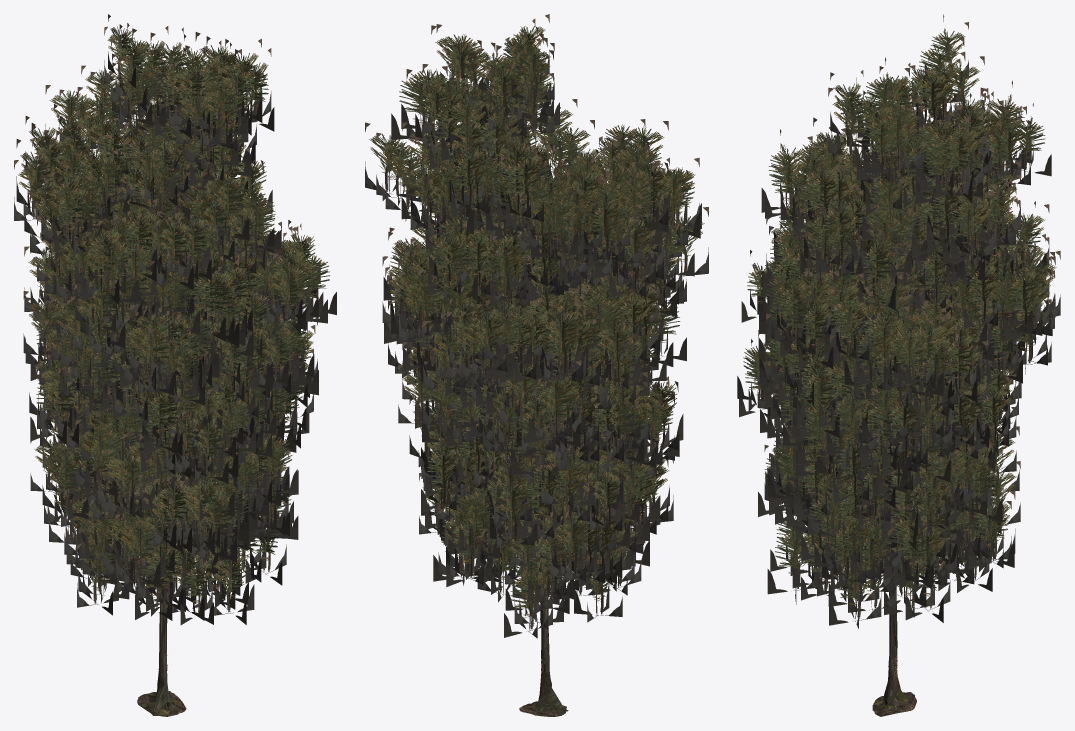
Rendered from pines.glb.
3 views of the same model, side by side, from view 1: azimuth 30°, elevation 25°; view 2: azimuth 150°, elevation 25°; view 3: azimuth 270°, elevation 25° (orthographic). The views are drawn at different scales.
Visible parts, largest first — view 1: pine_a, pine_c, pine_b; view 2: pine_a, pine_c, pine_b; view 3: pine_a, pine_c, pine_b.
Part boxes in pixels (box(x1,y1,x2,y2)): pine_a: box(14, 14, 336, 716); pine_c: box(23, 119, 317, 716); pine_b: box(24, 208, 313, 714); pine_a: box(365, 14, 708, 714); pine_c: box(388, 104, 686, 716); pine_b: box(396, 197, 673, 716); pine_a: box(741, 14, 1060, 713); pine_c: box(739, 141, 1051, 711); pine_b: box(737, 220, 1023, 716).
Size of the model in its own units: 4.1 by 10.21 by 4.41.
Materials: 6 (6 with a texture image).
